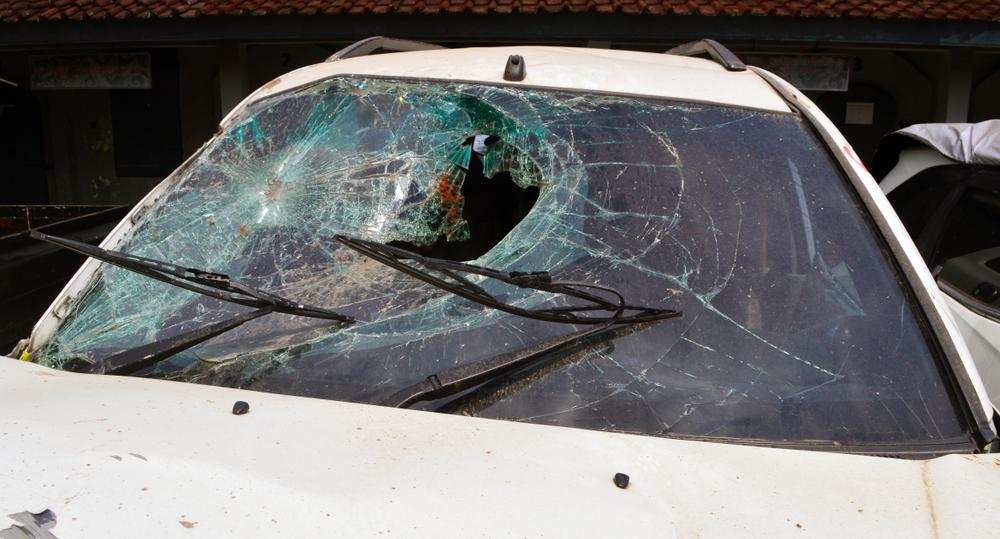glass shatter: (26, 76, 971, 446)
